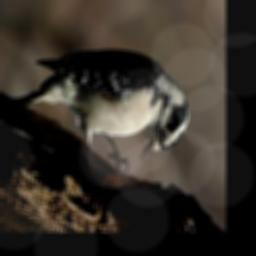Woodpecker: (9, 49, 188, 175)
